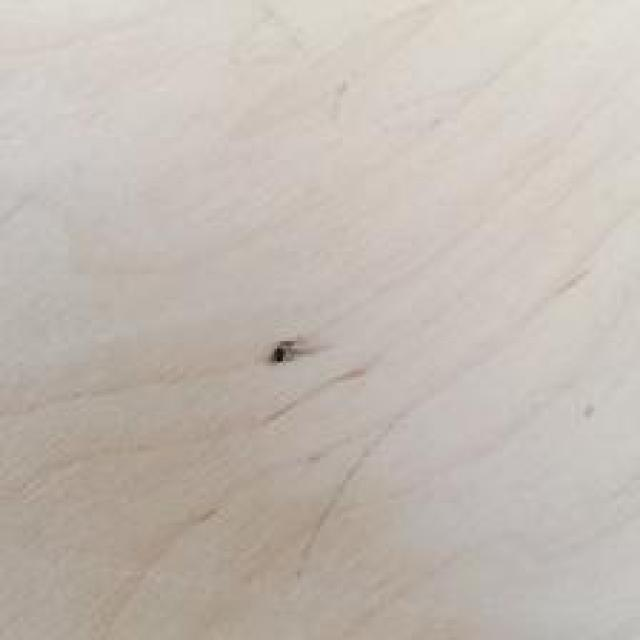Culex: (272, 339, 297, 364)
